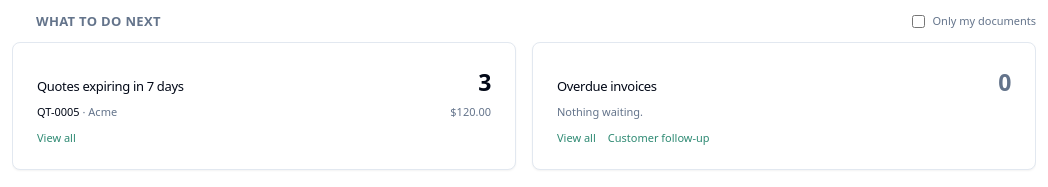
Test: #365 — Sales cockpit action queues › "Only my documents" re-queries with mine=1
Expected: the text "3" is shown, [478,67,491,97]
What coordinates should you click on to do the following:
click the checkbox with test id "action-queues-mine"
I would click on:
 (918, 21)
Its box is [912,14,924,28].
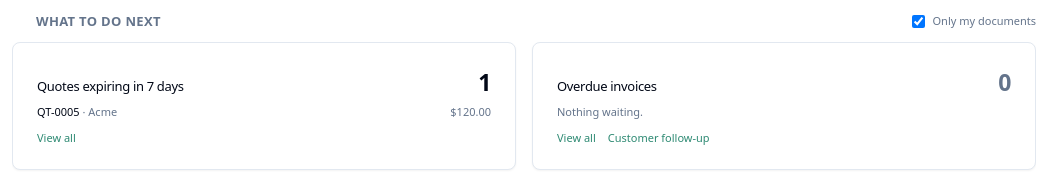
Expected: the text with test id "action-queue-count-quotes_expiring" reads "1", [478,66,491,98]
